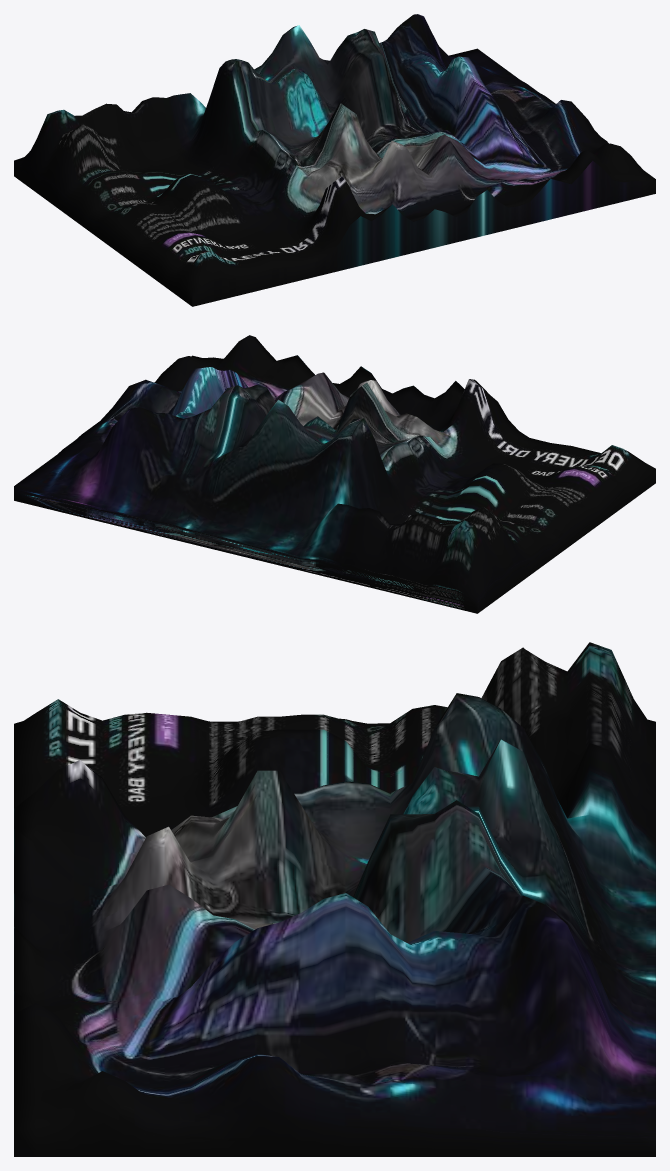
The model's file is CAREER_02_Tool_01_Bag.glb.
3 renders of one model, top to bottom at view 1: azimuth 30°, elevation 25°; view 2: azimuth 150°, elevation 25°; view 3: azimuth 270°, elevation 25°, orthographic. The views are drawn at different scales.
Parts seen in each view (by area): view 1: CAREER_02_Tool_01_Bag; view 2: CAREER_02_Tool_01_Bag; view 3: CAREER_02_Tool_01_Bag.
Boxes of the visible parts, <box> form: CAREER_02_Tool_01_Bag: <box>14,14,655,306</box>; CAREER_02_Tool_01_Bag: <box>14,335,655,613</box>; CAREER_02_Tool_01_Bag: <box>14,642,655,1156</box>.
Bounding box in the file's own units: 2 × 0.51 × 1.33.
1 material, 1 textured.
